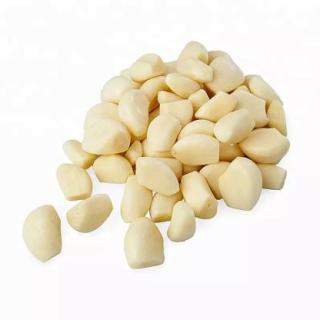Bawang Putih: (219, 157, 265, 213), (24, 205, 64, 264), (124, 217, 166, 270), (66, 194, 115, 234), (82, 119, 131, 155), (136, 157, 180, 197), (117, 89, 151, 139), (214, 109, 256, 145), (57, 165, 94, 202), (148, 114, 182, 153), (130, 54, 167, 83), (177, 60, 214, 85), (165, 73, 199, 98)
